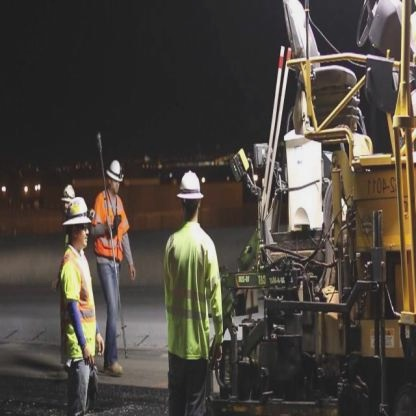vest: (157, 218, 233, 362), (51, 248, 102, 365), (92, 186, 133, 260)
white: (59, 194, 96, 240), (177, 163, 208, 206), (105, 158, 126, 185), (58, 180, 75, 204)
